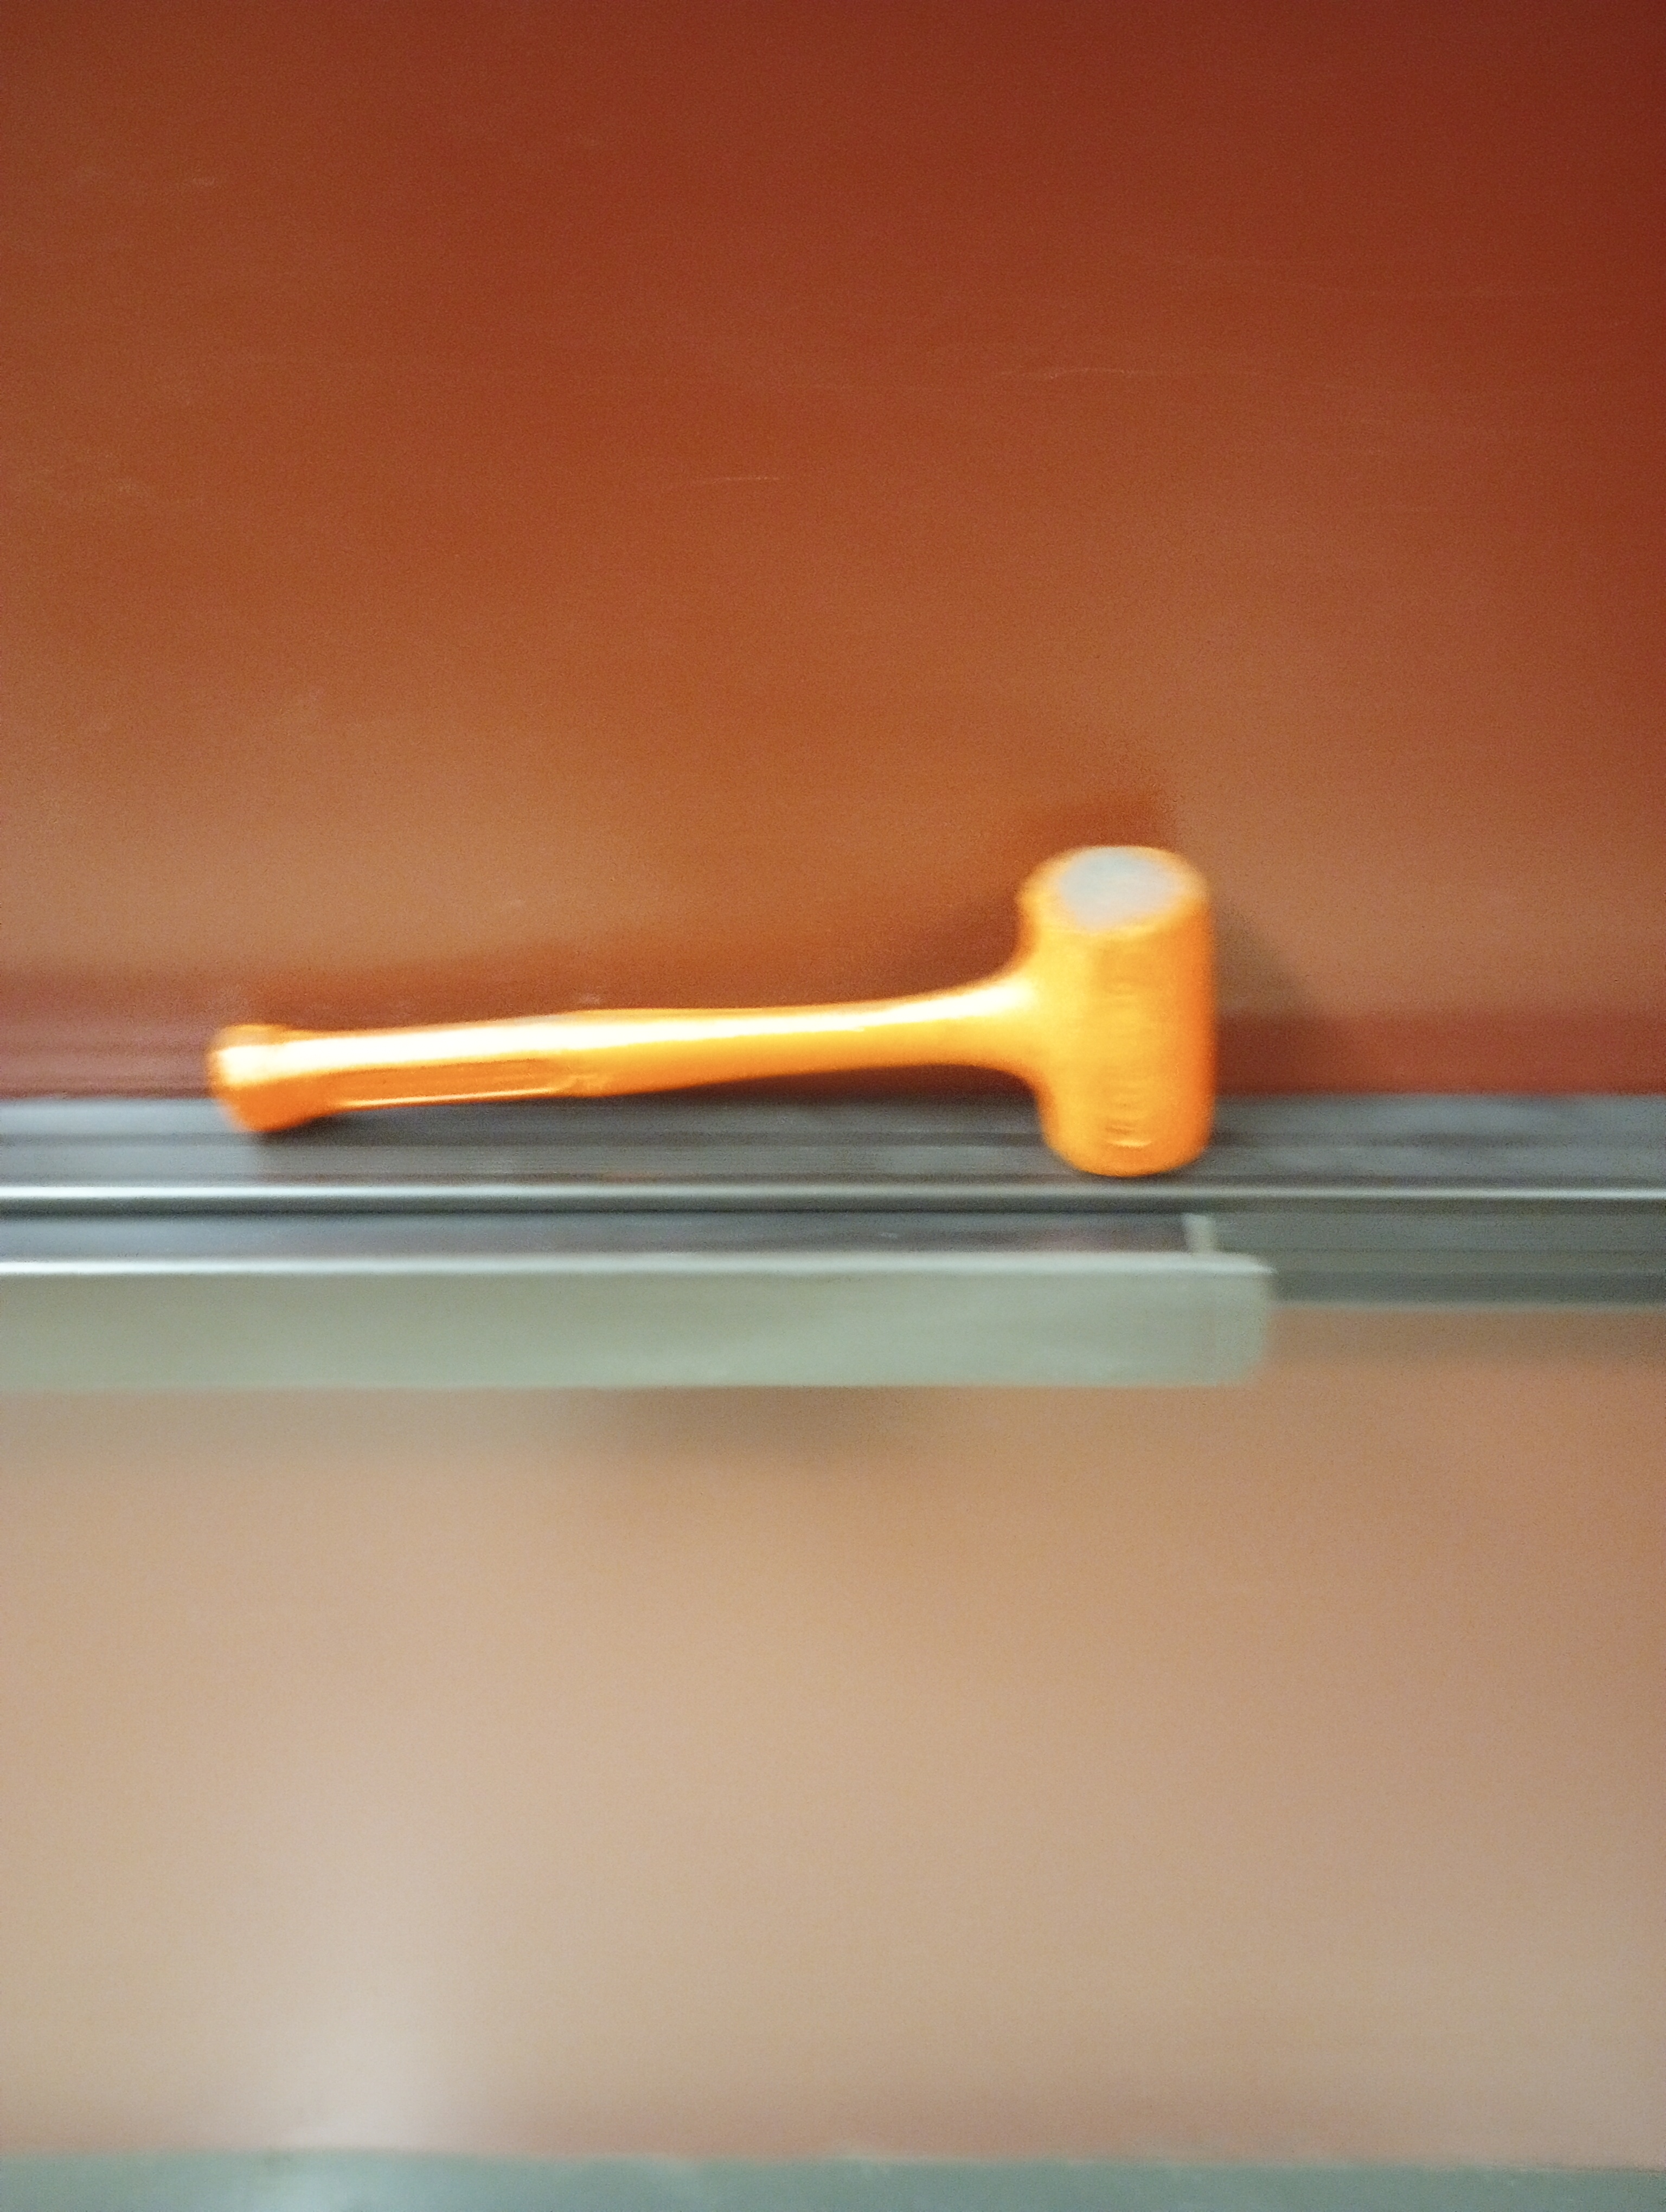bottle: (207, 831, 1216, 1180)
